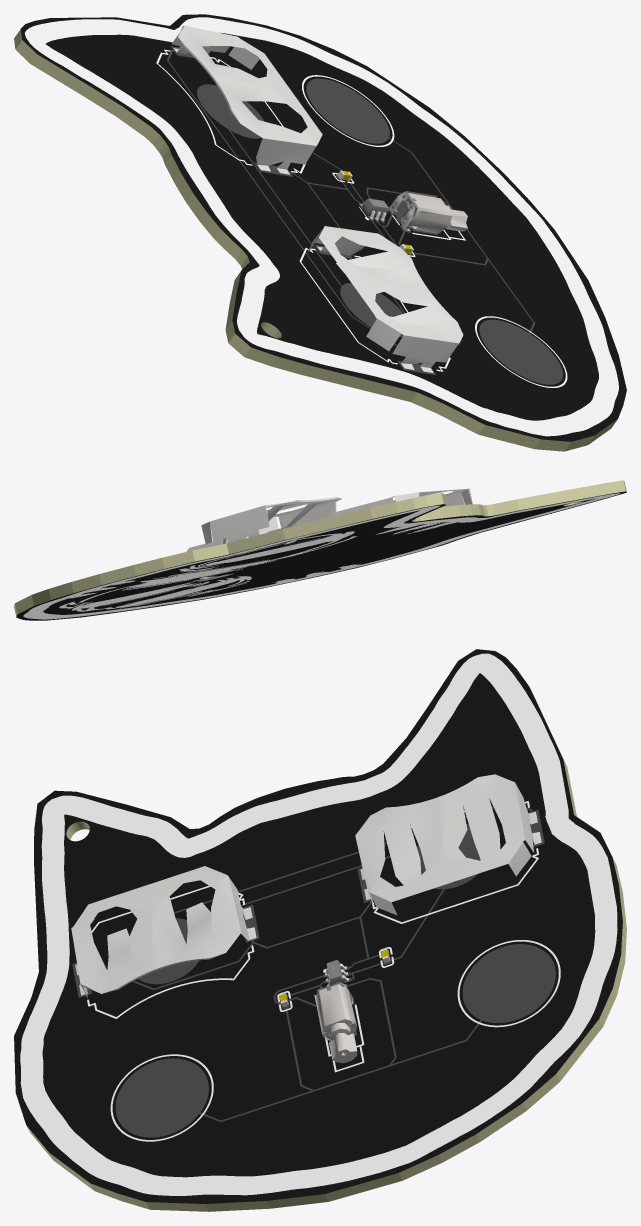
File: PurrCat.glb
3 renders of one model, top to bottom at view 1: azimuth 30°, elevation 25°; view 2: azimuth 150°, elevation 25°; view 3: azimuth 270°, elevation 25°, orthographic. The views are drawn at different scales.
Parts seen in each view (by area): view 1: PurrCat; view 2: PurrCat; view 3: PurrCat.
Part boxes in pixels (x1,y1,x2,y2): PurrCat: [14, 14, 626, 451]; PurrCat: [14, 480, 626, 620]; PurrCat: [14, 649, 626, 1211].
Bounding box in the file's own units: 70.41 × 47.17 × 74.84.
